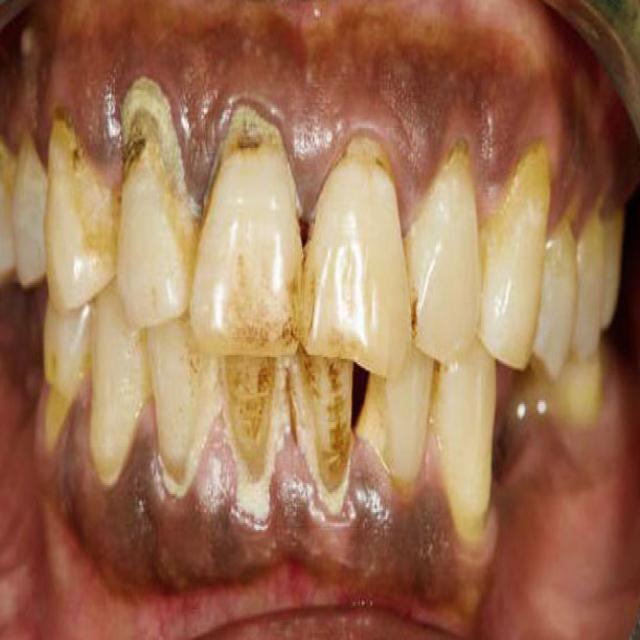caries: (292, 200, 322, 262)
